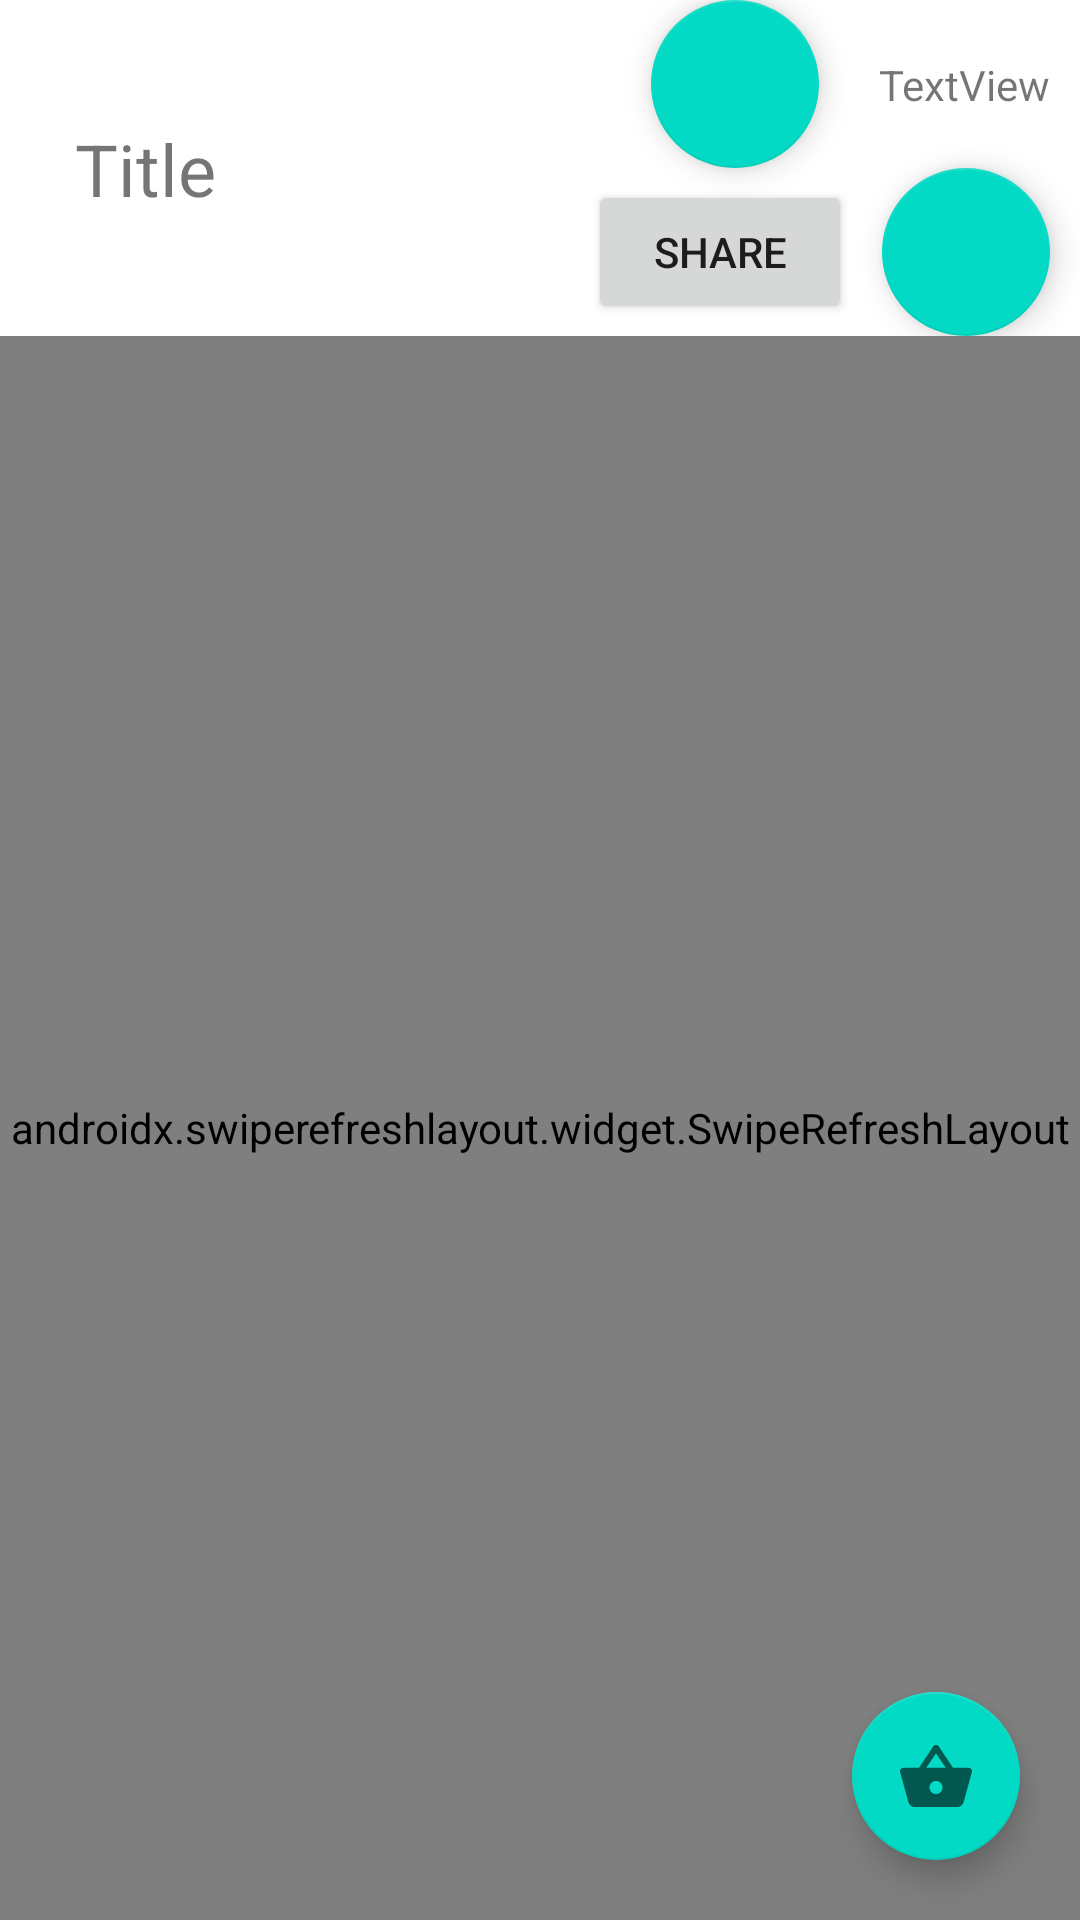

Icon bounding boxes for this 1080 × 1920 phone screenshot, format (x1, y1, x2, y2):
basket: (852, 1692, 1020, 1860)
